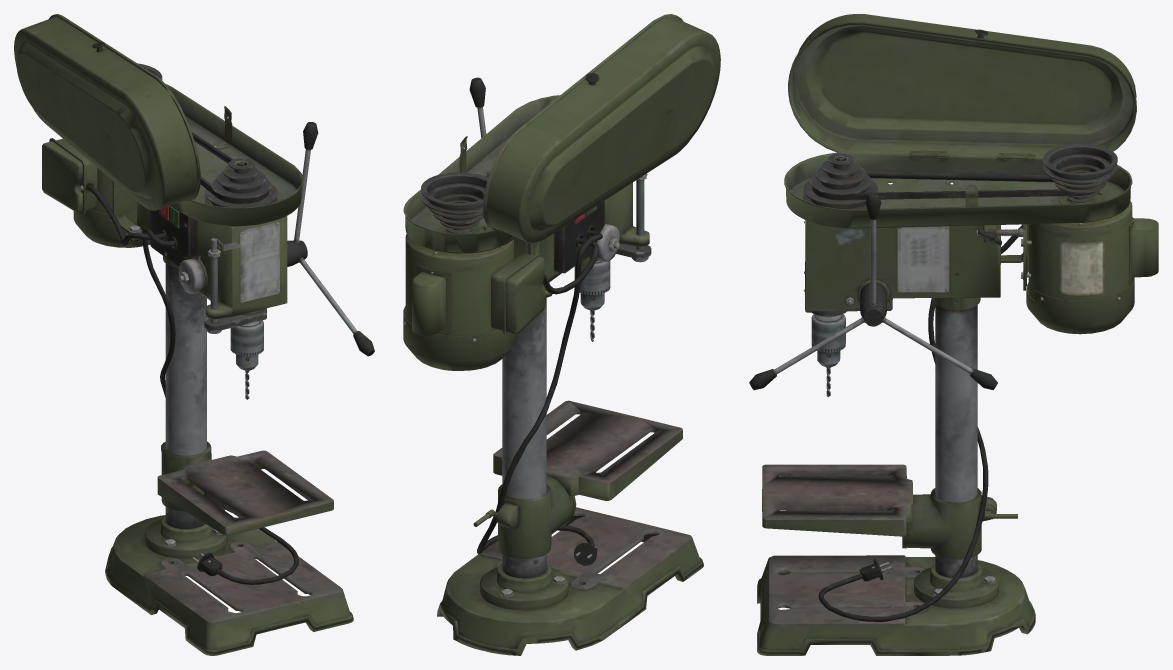
File: drill_press_01.glb
3 renders of one model, left to right at view 1: azimuth 30°, elevation 25°; view 2: azimuth 150°, elevation 25°; view 3: azimuth 270°, elevation 25°, orthographic. The views are drawn at different scales.
Parts seen in each view (by area): view 1: drill_press_01, drill_press_01_lid, drill_press_01_plate, drill_press_01_gear_b, drill_press_01_plug, drill_press_01_handle, drill_press_01_limiter, drill_press_01_bit, drill_press_01_belt; view 2: drill_press_01, drill_press_01_lid, drill_press_01_plate, drill_press_01_gear_a, drill_press_01_plug, drill_press_01_bit, drill_press_01_limiter, drill_press_01_handle; view 3: drill_press_01, drill_press_01_lid, drill_press_01_plate, drill_press_01_handle, drill_press_01_gear_a, drill_press_01_belt, drill_press_01_plug, drill_press_01_gear_b, drill_press_01_bit.
Boxes of the visible parts, x1,y1,x2,y2 form: drill_press_01: (42, 84, 353, 655); drill_press_01_lid: (14, 14, 200, 210); drill_press_01_plate: (157, 441, 333, 535); drill_press_01_gear_b: (205, 158, 277, 207); drill_press_01_plug: (142, 228, 298, 584); drill_press_01_handle: (287, 122, 374, 356); drill_press_01_limiter: (204, 238, 266, 333); drill_press_01_bit: (230, 320, 263, 399); drill_press_01_belt: (191, 132, 268, 203); drill_press_01: (403, 95, 703, 655); drill_press_01_lid: (483, 14, 720, 242); drill_press_01_plate: (493, 400, 682, 558); drill_press_01_gear_a: (421, 172, 488, 233); drill_press_01_plug: (477, 230, 602, 565); drill_press_01_bit: (574, 260, 610, 341); drill_press_01_limiter: (616, 173, 651, 262); drill_press_01_handle: (469, 77, 489, 174); drill_press_01: (757, 151, 1158, 655); drill_press_01_lid: (788, 14, 1136, 159); drill_press_01_plate: (762, 464, 996, 559); drill_press_01_handle: (749, 192, 997, 390); drill_press_01_gear_a: (1043, 143, 1117, 202); drill_press_01_belt: (812, 171, 1095, 200); drill_press_01_plug: (818, 298, 988, 621); drill_press_01_gear_b: (803, 153, 877, 209); drill_press_01_bit: (811, 314, 845, 397).
Size of the model in its own units: 0.3543 by 0.9011 by 0.5983.
Materials: 1 (1 with a texture image).
